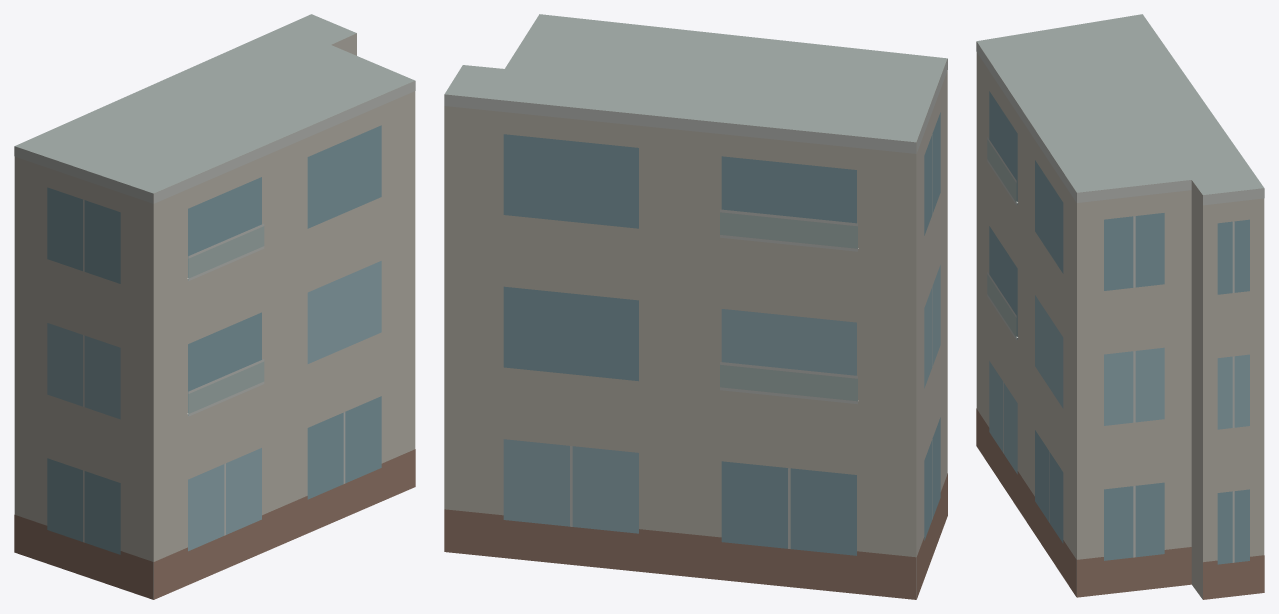
File: survey-upis-32897048.glb
3 views of the same model, side by side, from view 1: azimuth 30°, elevation 25°; view 2: azimuth 150°, elevation 25°; view 3: azimuth 270°, elevation 25° (orthographic). The views are drawn at different scales.
Visible parts, largest first — view 1: survey-upis-32897048.tmp; view 2: survey-upis-32897048.tmp; view 3: survey-upis-32897048.tmp.
Part boxes in pixels (left/top/right/bottom): survey-upis-32897048.tmp: left=14, top=14, right=415, bottom=599; survey-upis-32897048.tmp: left=444, top=14, right=947, bottom=599; survey-upis-32897048.tmp: left=976, top=14, right=1264, bottom=599.
Size of the model in its own units: 9.22 by 9.6 by 6.2.
